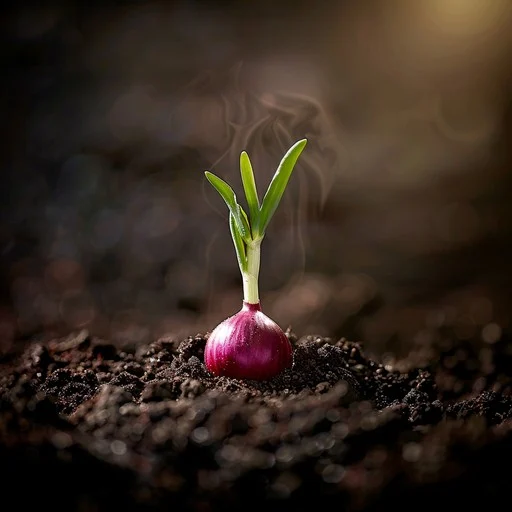onion: (154, 139, 332, 415)
